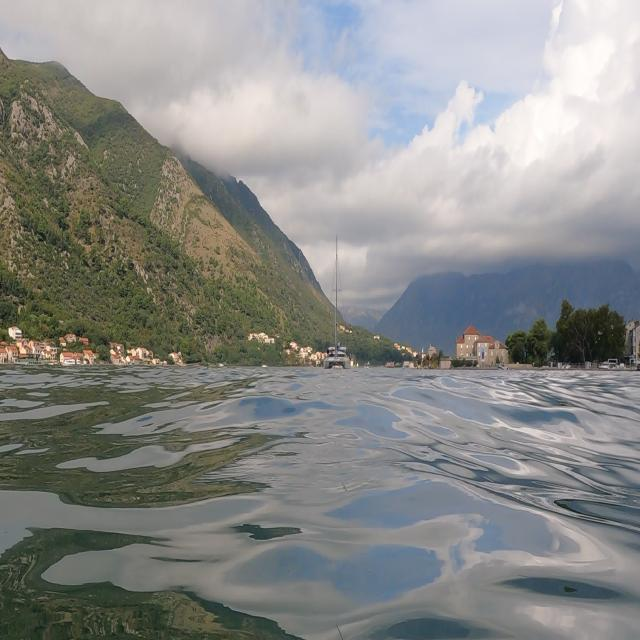boat: (322, 231, 354, 371)
